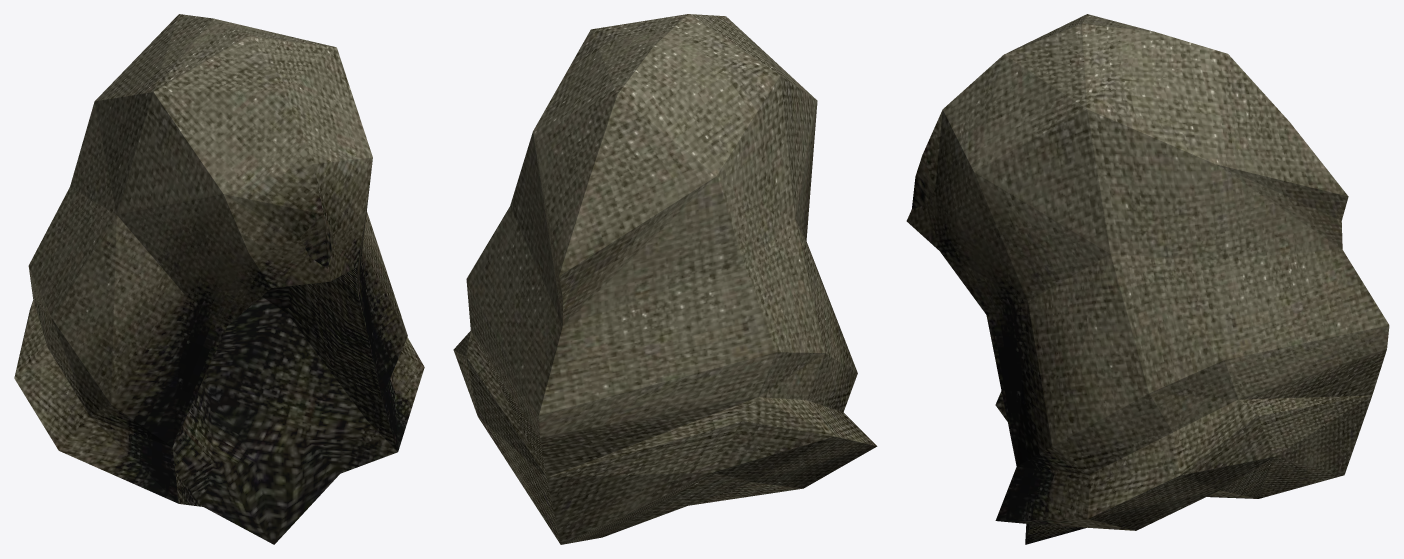
File: HUM_HELM_2ZOL.glb
The picture shows the model from 3 angles, left to right: view 1: azimuth 30°, elevation 25°; view 2: azimuth 150°, elevation 25°; view 3: azimuth 270°, elevation 25°; orthographic projection. The views are drawn at different scales.
Parts seen in each view (by area): view 1: HUM_HELM_2ZOL; view 2: HUM_HELM_2ZOL; view 3: HUM_HELM_2ZOL.
Part boxes in pixels (box(x1,y1,x2,y2)): HUM_HELM_2ZOL: box(14, 14, 424, 544); HUM_HELM_2ZOL: box(453, 14, 877, 544); HUM_HELM_2ZOL: box(906, 14, 1389, 544).
Size of the model in its own units: 0.3241 by 0.4106 by 0.345.
Materials: 1 (1 with a texture image).
